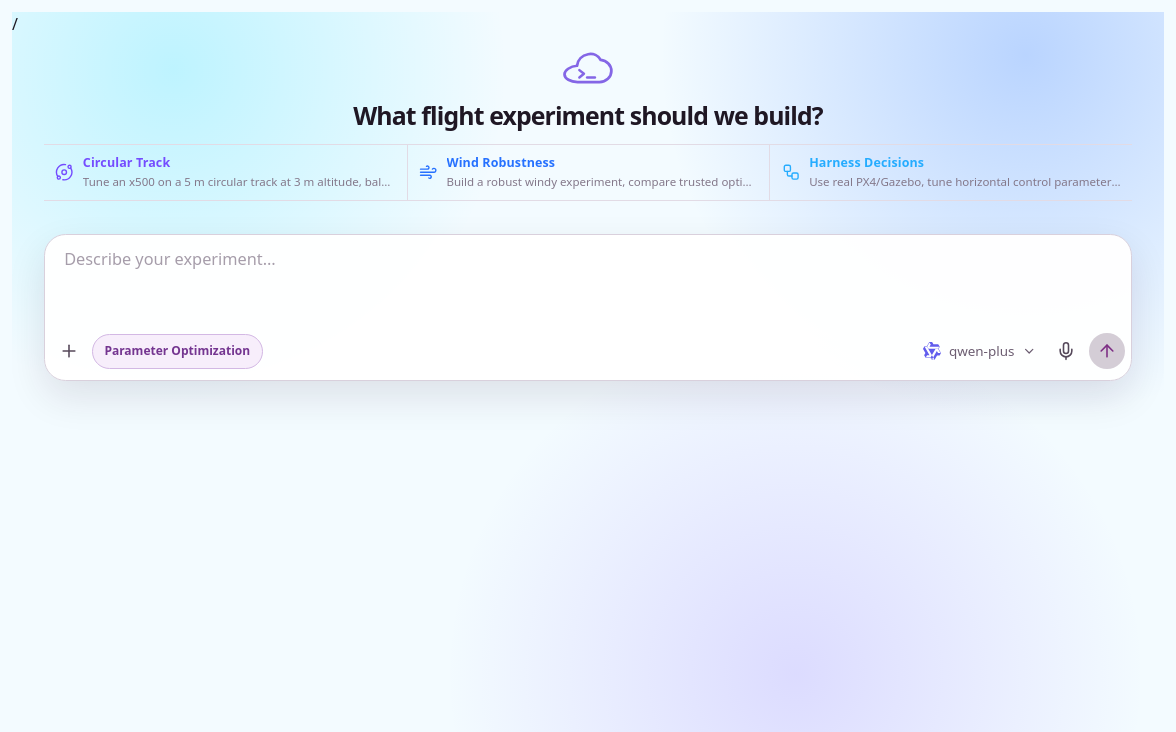
Test: conversational experiment drafting › keeps the manual five-step path available beside the conversation path
This screenshot has width=1176, height=732.
Check: the 1st icon is shown, box [562,46,614,96]
Check: the element with class "assistant-terminal-chevron" is shown, box [580,70,584,77]
Click the button named "More ways to start": (69, 351) [51,333,87,369]
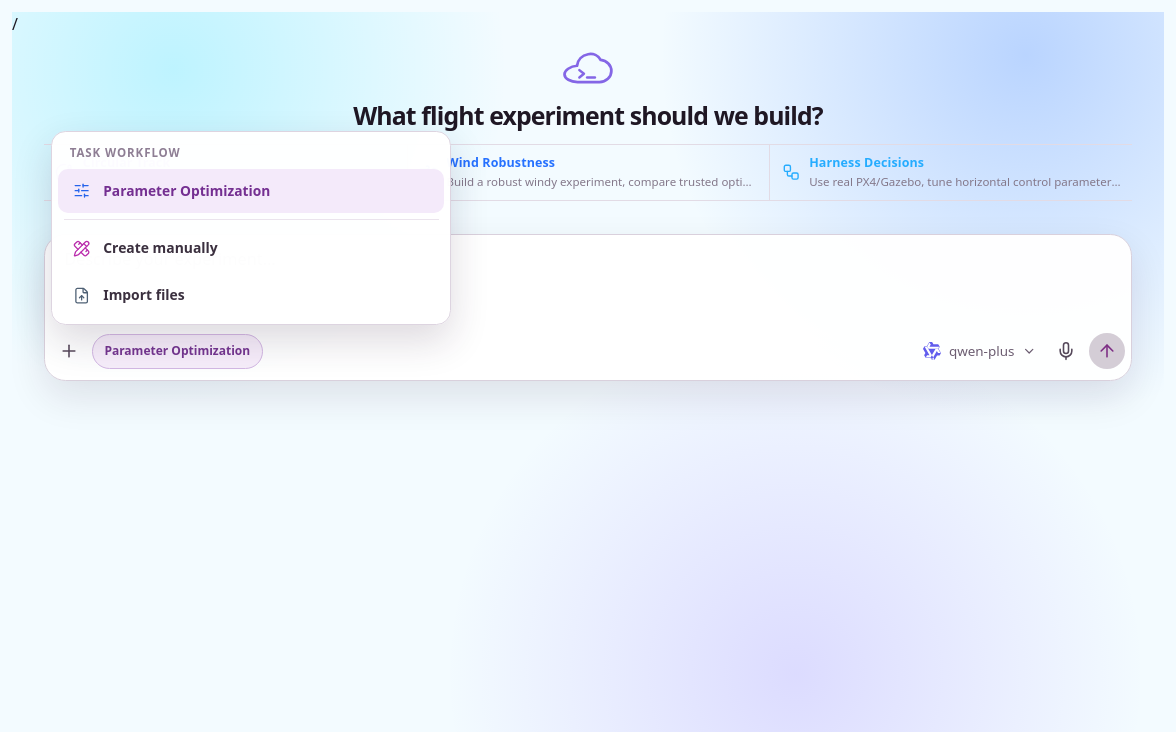
Check: the dropdown named "Model" reads "qwen-plus", box [916,334,1044,369]
Check: the menu item "Import files" is shown, box [58,274,444,318]
